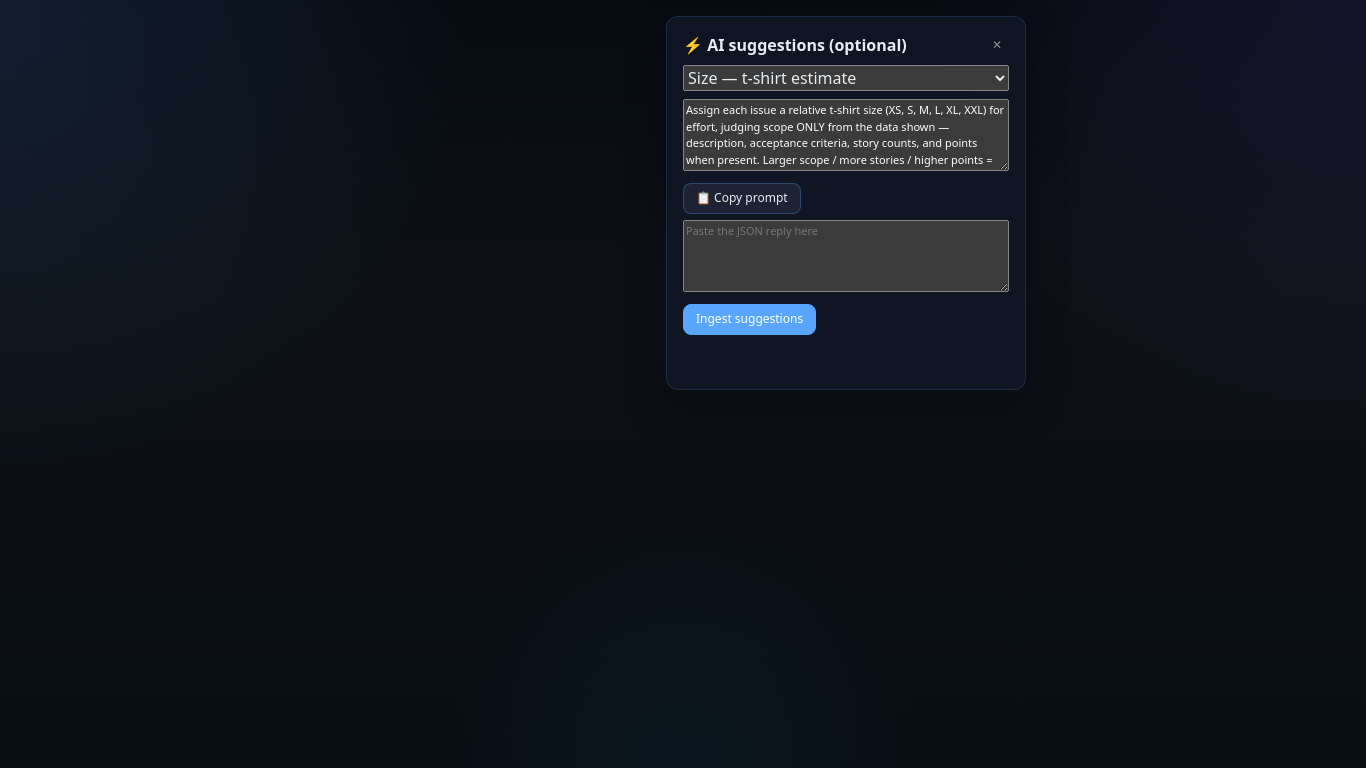
Test: AiSuggestionPanel › warns when no sprints are pulled (advisory, not a block) and auto-pulls them
Select "★ Master plan — all phases, applied at once" in the dropdown: [846, 78] box [683,65,1009,91]
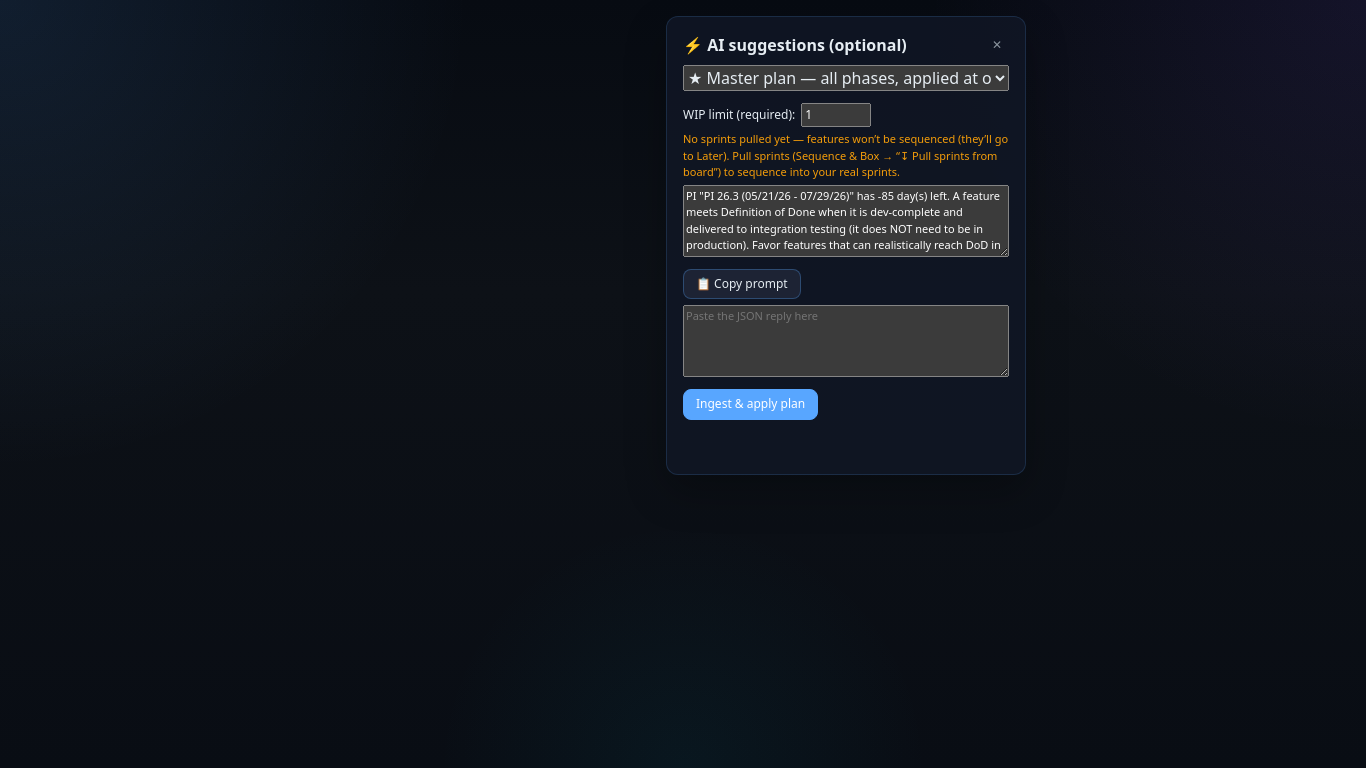
Expected: the button "Ingest & apply plan" is enabled, [683,389,818,420]
Expected: the text "No sprints pulled yet" is shown, [683,131,1008,179]
